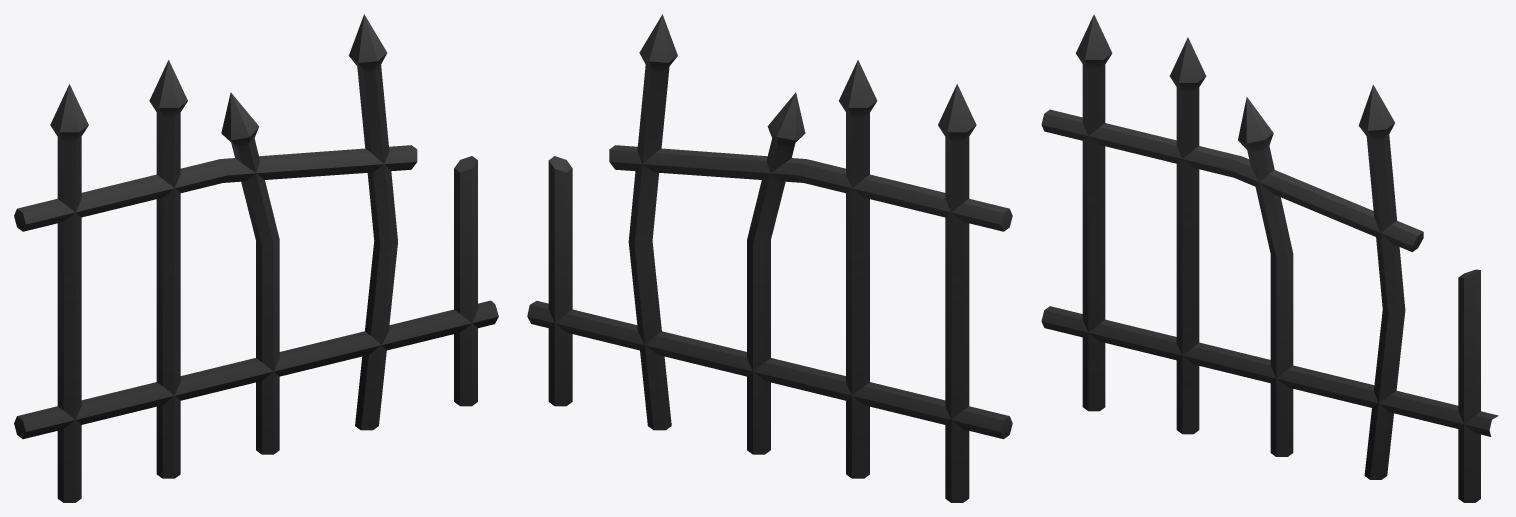
File: fence half.glb
3 renders of one model, left to right at view 1: azimuth 30°, elevation 25°; view 2: azimuth 150°, elevation 25°; view 3: azimuth 330°, elevation 25°, orthographic. The views are drawn at different scales.
Visible parts, largest first — view 1: fence_seperate_broken; view 2: fence_seperate_broken; view 3: fence_seperate_broken.
Part boxes in pixels (box(x1,y1,x2,y2)): fence_seperate_broken: box(14, 14, 498, 502); fence_seperate_broken: box(527, 14, 1012, 502); fence_seperate_broken: box(1041, 14, 1498, 502).
Bounding box in the file's own units: 2.39 × 2 × 0.1696.
1 material, 1 textured.
